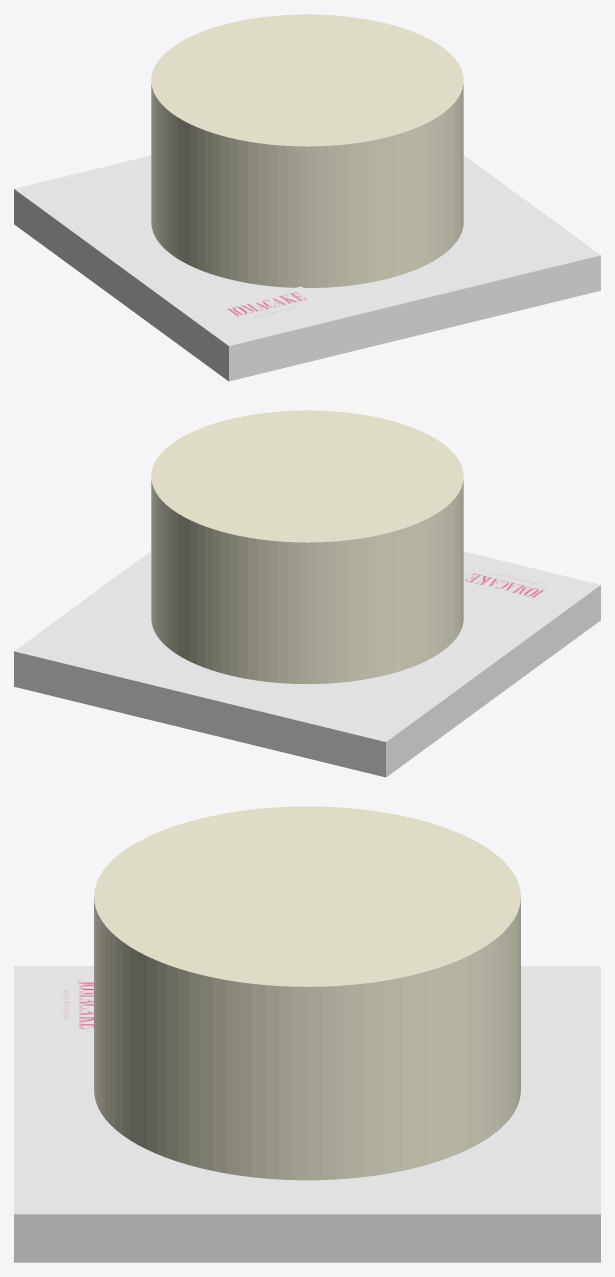
File: cake_6in_layers2_v34.glb
3 views of the same model, one above another, from view 1: azimuth 30°, elevation 25°; view 2: azimuth 150°, elevation 25°; view 3: azimuth 270°, elevation 25° (orthographic). The views are drawn at different scales.
Visible parts, largest first — view 1: Cake, Board, Logo; view 2: Cake, Board, Logo; view 3: Cake, Board, Logo.
Boxes of the visible parts, x1,y1,x2,y2 form: Cake: (151, 14, 463, 287); Board: (14, 155, 600, 381); Logo: (212, 286, 327, 326); Cake: (151, 410, 463, 683); Board: (14, 551, 600, 777); Logo: (463, 563, 565, 603); Cake: (94, 806, 520, 1180); Board: (14, 966, 600, 1262); Logo: (49, 975, 93, 1034).
Bounding box in the file's own units: 0.22 × 0.1 × 0.22.
